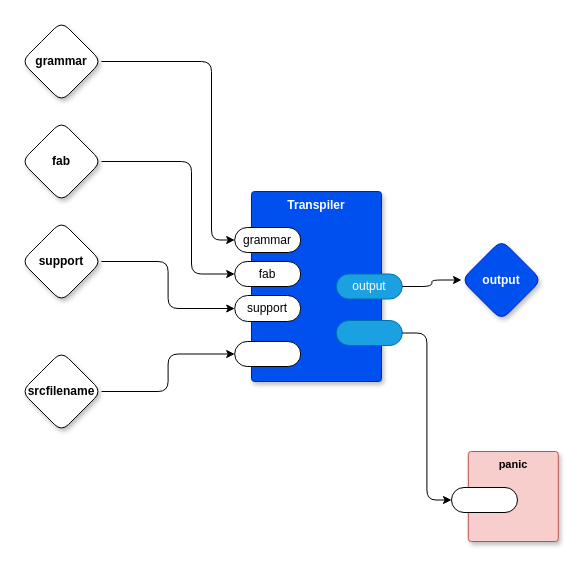
Some shapes in this 582 by 566 pixel diagram are drawn without their labels. Each missing label, with the centre of its shape:
error: point 368,333
stdin: point 267,353
str: point 484,499
